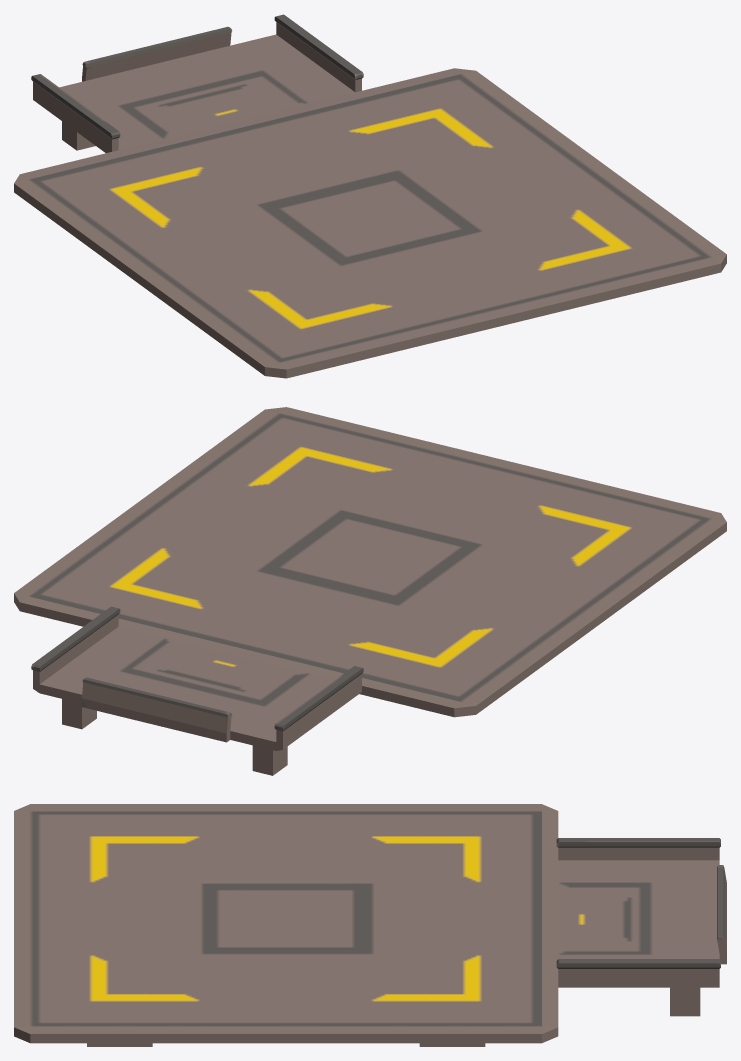
File: Low Poly Sci-Fi Building2.fbx
3 views of the same model, one above another, from view 1: azimuth 30°, elevation 25°; view 2: azimuth 150°, elevation 25°; view 3: azimuth 270°, elevation 25° (orthographic).
Visible parts, largest first — view 1: Cube.018; view 2: Cube.018; view 3: Cube.018.
Boxes of the visible parts, x1=… form: Cube.018: x1=14, y1=14, x2=726, y2=378; Cube.018: x1=14, y1=407, x2=726, y2=775; Cube.018: x1=14, y1=804, x2=726, y2=1046.
Size of the model in its own units: 640 by 89.9 by 838.
1 material, 1 textured.
